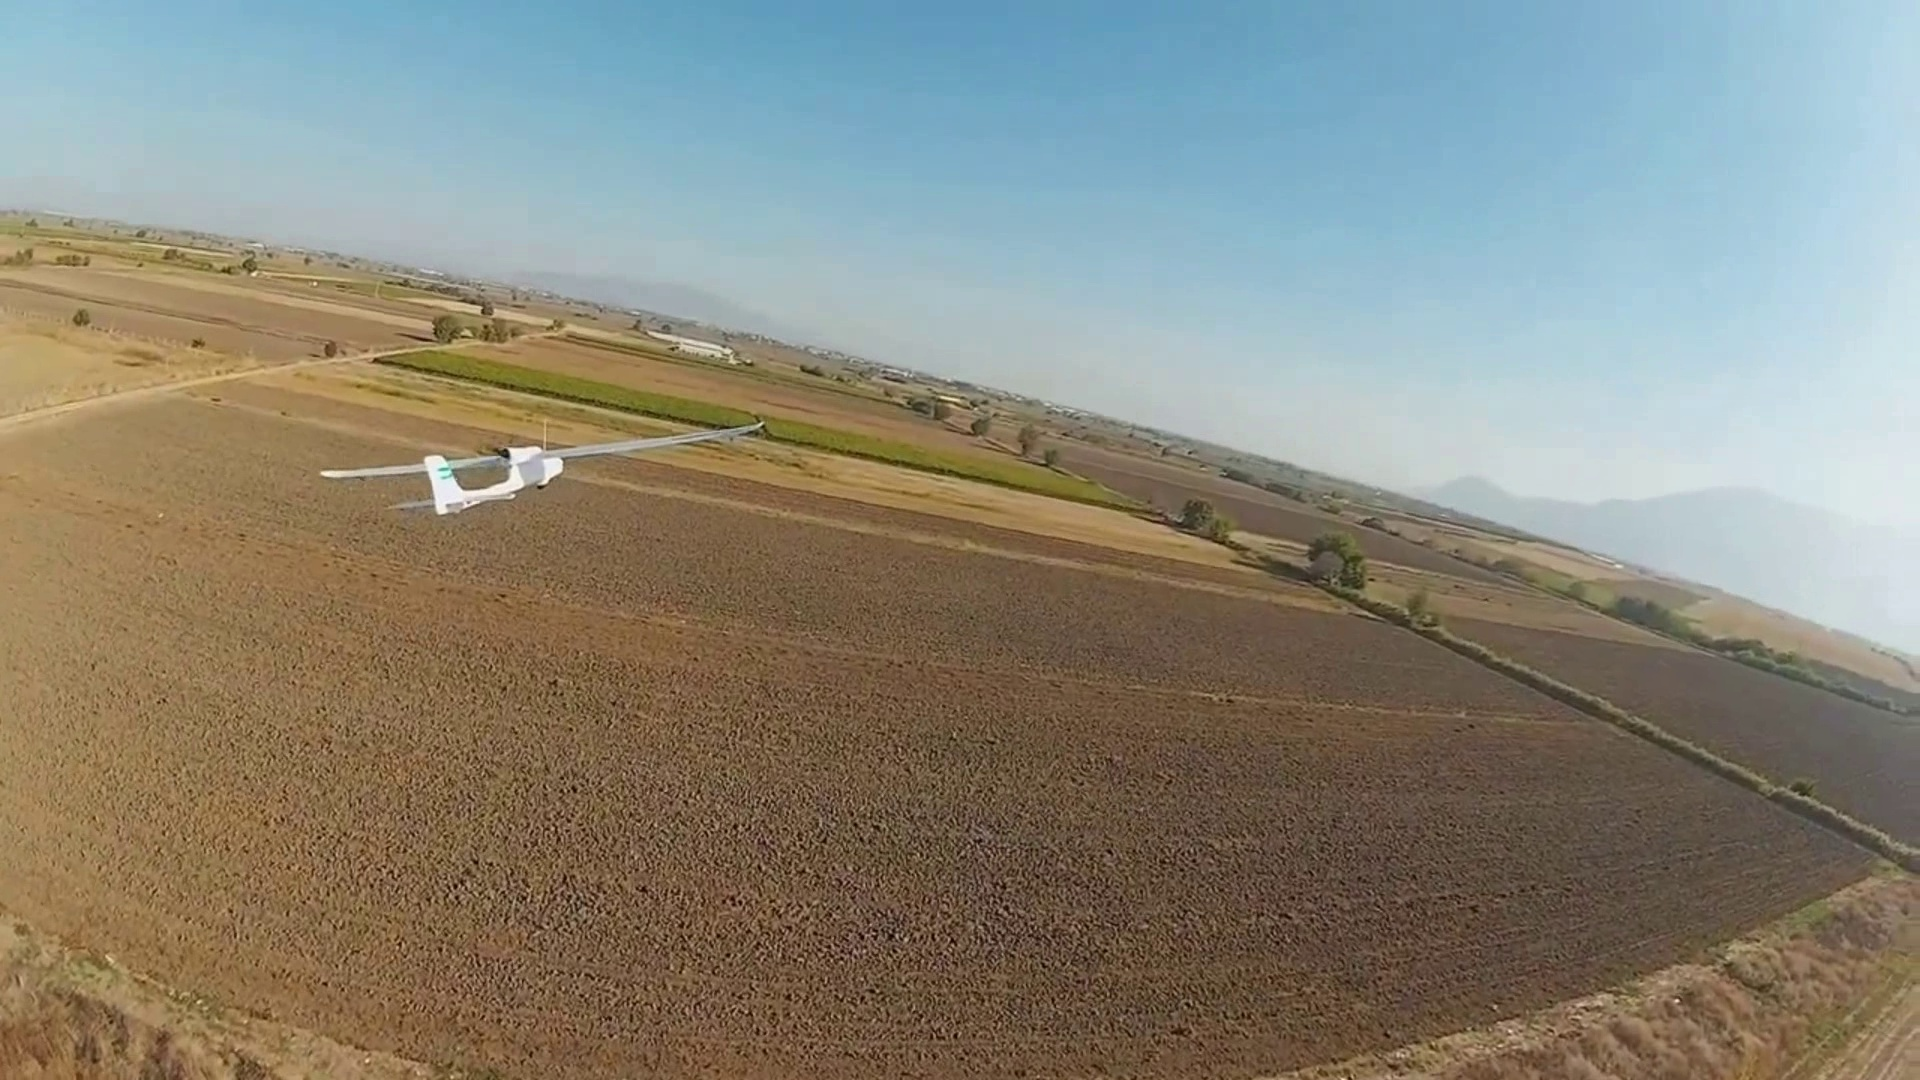airplane: (317, 386, 764, 516)
